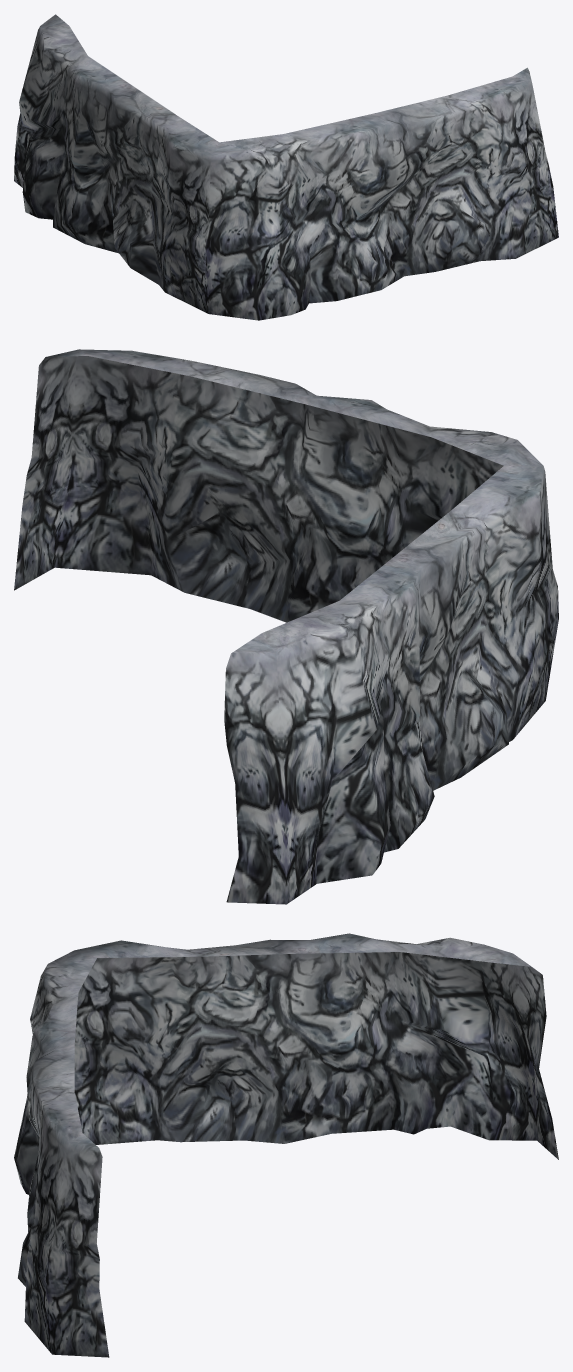
File: STR_FloorCaveC02.FBX
The picture shows the model from 3 angles, top to bottom: view 1: azimuth 30°, elevation 25°; view 2: azimuth 150°, elevation 25°; view 3: azimuth 270°, elevation 25°; orthographic projection. The views are drawn at different scales.
Parts seen in each view (by area): view 1: STR_FloorCaveC02; view 2: STR_FloorCaveC02; view 3: STR_FloorCaveC02.
Part boxes in pixels (box(x1,y1,x2,y2)): STR_FloorCaveC02: box(14, 14, 558, 320); STR_FloorCaveC02: box(14, 349, 558, 904); STR_FloorCaveC02: box(14, 933, 558, 1357).
Size of the model in its own units: 1001 by 403 by 985.
